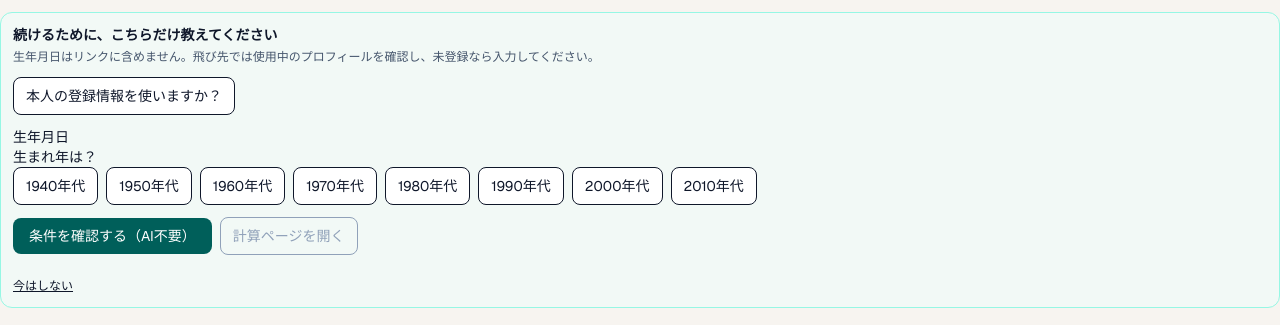
Test: 登録プロフィールの再利用では保存も保存選択の質問もしない
Click the button "本人の登録情報を使いますか？".
click(124, 96)  # box [13,77,235,115]
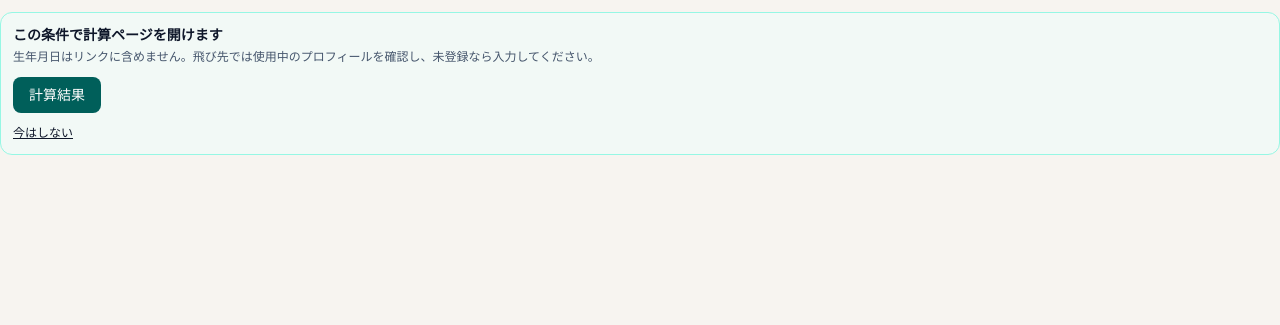
Expected: the link "計算結果" is shown, [13,77,101,113]
